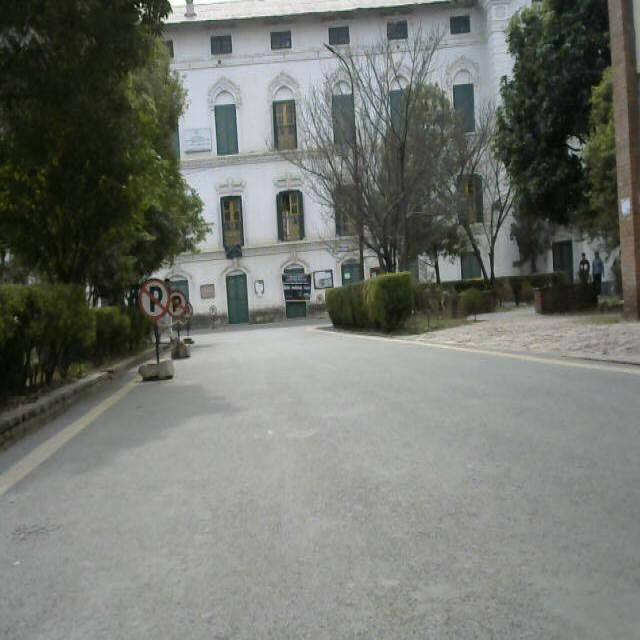Buildings: (174, 24, 515, 269)
NoParking: (138, 277, 193, 391)
Road: (173, 333, 640, 640), (17, 384, 141, 628)
trees: (4, 5, 174, 268), (304, 42, 492, 254), (503, 3, 640, 271)
